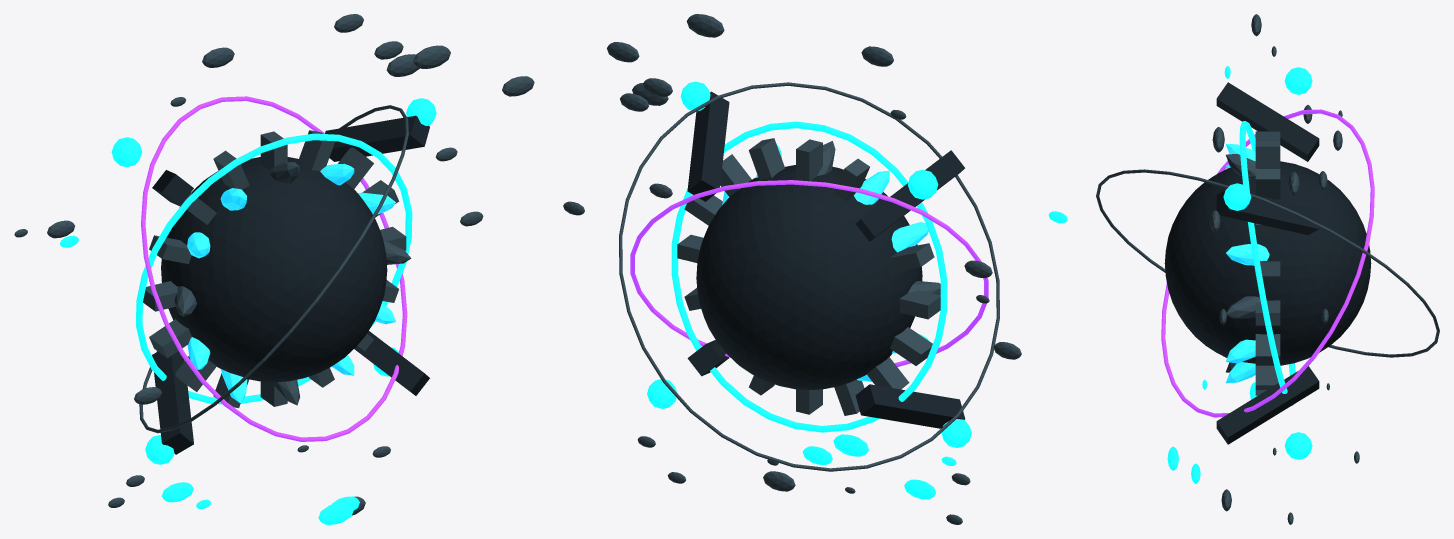
The model's file is voxx-nexus-core.glb.
The picture shows the model from 3 angles, left to right: view 1: azimuth 30°, elevation 25°; view 2: azimuth 150°, elevation 25°; view 3: azimuth 270°, elevation 25°; orthographic projection. The views are drawn at different scales.
Visible parts, largest first — view 1: Core_Black, Orbit_0, Orbit_1, Pylon_2, Pylon_0, Orbit_2, world, Pylon_3, Armor_09, Armor_03, Pylon_1, Armor_07 (+7 smaller); view 2: Core_Black, Orbit_0, Orbit_2, Orbit_1, Pylon_2, Pylon_0, world, Pylon_1, Armor_03, Armor_09, Armor_04, Armor_08 (+12 smaller); view 3: Core_Black, Orbit_1, Pylon_1, Pylon_3, Orbit_2, Pylon_0, Orbit_0, world, Armor_03, Armor_04, Armor_15, Crystal_01 (+5 smaller).
Part boxes in pixels (x1,y1,x2,y2): Core_Black: (161,157,387,382); Orbit_0: (136,133,412,404); Orbit_1: (141,96,407,441); Pylon_2: (152,351,193,454); Pylon_0: (325,115,429,161); Orbit_2: (139,105,408,433); world: (111,98,436,464); Pylon_3: (354,331,429,395); Armor_09: (149,319,191,358); Armor_03: (298,130,334,171); Pylon_1: (152,170,193,206); Armor_07: (149,235,191,263); Core_Black: (696,165,922,389); Orbit_0: (671,121,947,432); Orbit_2: (619,82,999,471); Orbit_1: (630,180,988,366); Pylon_2: (855,384,965,428); Pylon_0: (687,91,729,201); world: (647,81,971,447); Pylon_1: (856,150,964,241); Armor_03: (748,138,784,180); Armor_09: (889,327,932,365); Armor_04: (796,139,822,181); Armor_08: (899,290,940,319); Core_Black: (1164,161,1371,365); Orbit_1: (1161,109,1374,417); Pylon_1: (1216,82,1319,161); Pylon_3: (1216,366,1319,444); Orbit_2: (1096,169,1439,357); Pylon_0: (1216,190,1319,234); Orbit_0: (1239,121,1295,406); world: (1223,67,1312,459); Armor_03: (1255,169,1280,199); Armor_04: (1255,141,1280,168); Armor_15: (1255,334,1280,365); Crystal_01: (1226,244,1269,265).
Size of the model in its own units: 5.63 by 5.57 by 3.93.
